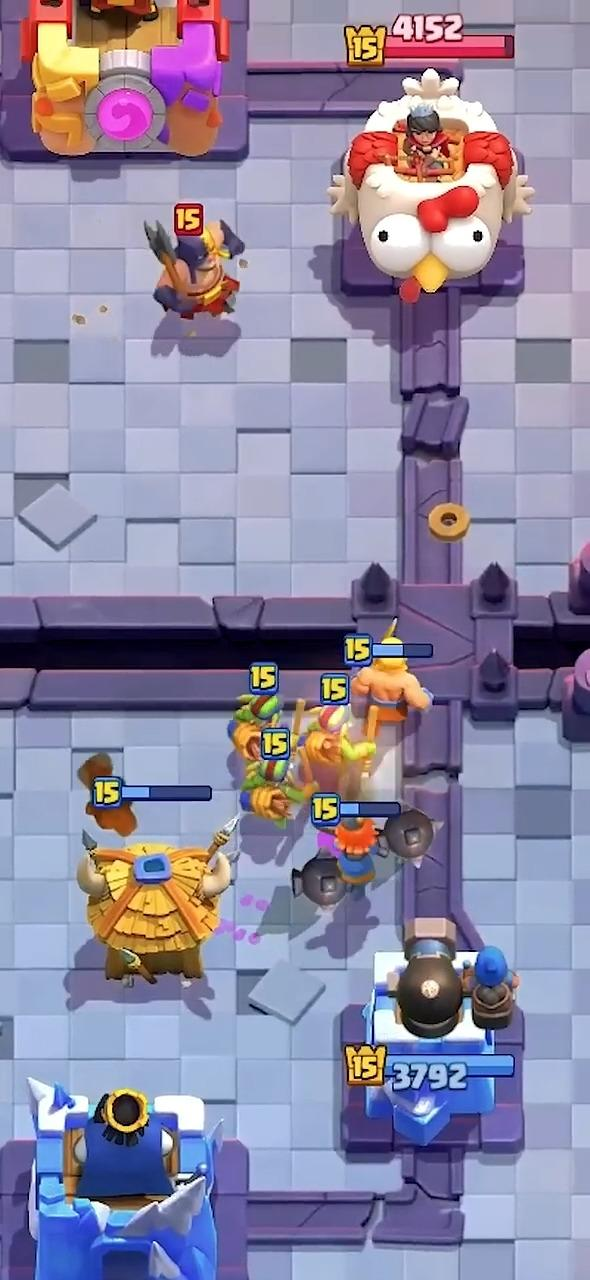barbarian: (353, 618, 430, 730)
executioner: (145, 221, 244, 320)
goblin hut: (77, 823, 234, 984)
spear goblin: (304, 706, 376, 775), (240, 759, 315, 825), (228, 694, 281, 763)
valkyrie: (334, 816, 375, 888)
